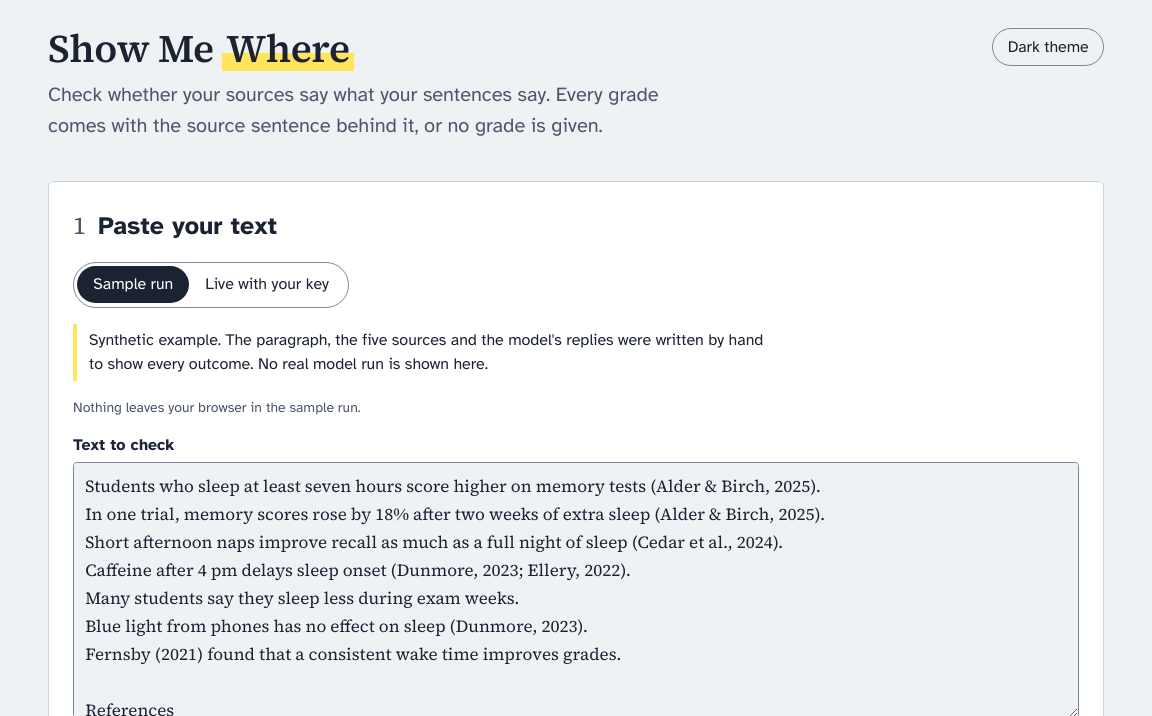
App › says when there is no reference list
The width and height of the screenshot is (1152, 716).
Click the radio button labelled "Live with your key".
click(267, 284)  # box top-left (205, 274), bottom-right (329, 294)
(page scrolled)
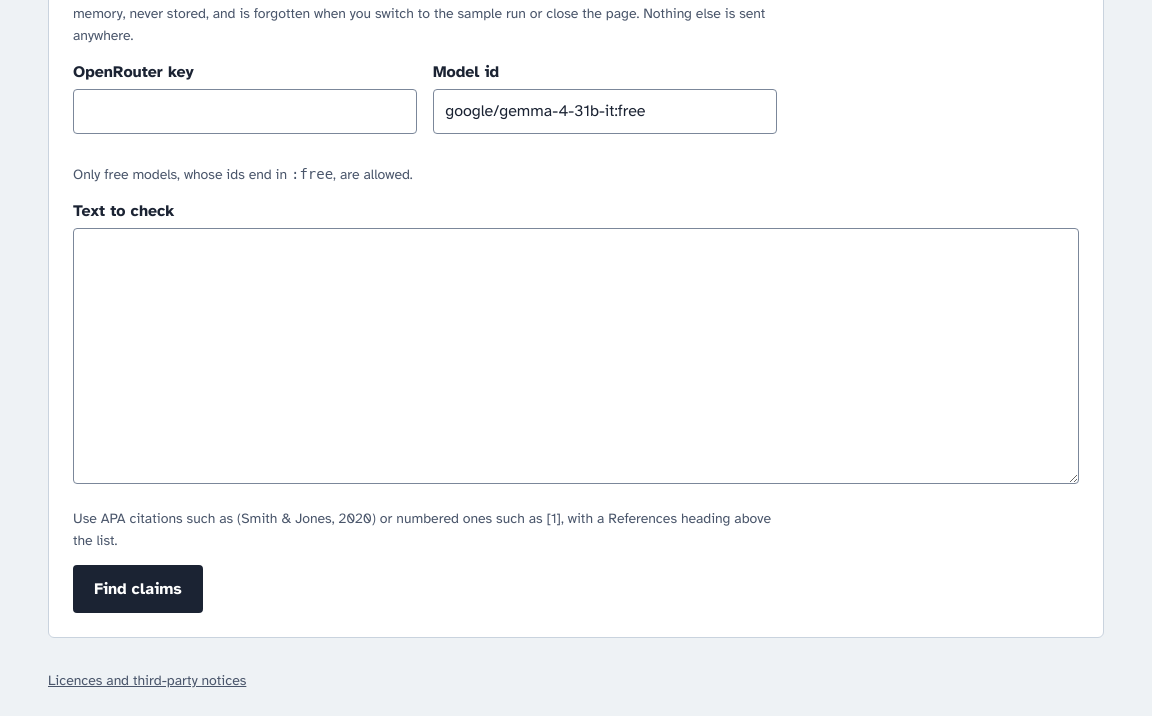
Type "Sleep matters (Smith, 2020)." into the text box labelled "Text to check".
click(576, 356); type("Sleep matters (Smith, 2020).")  # box top-left (73, 228), bottom-right (1079, 484)
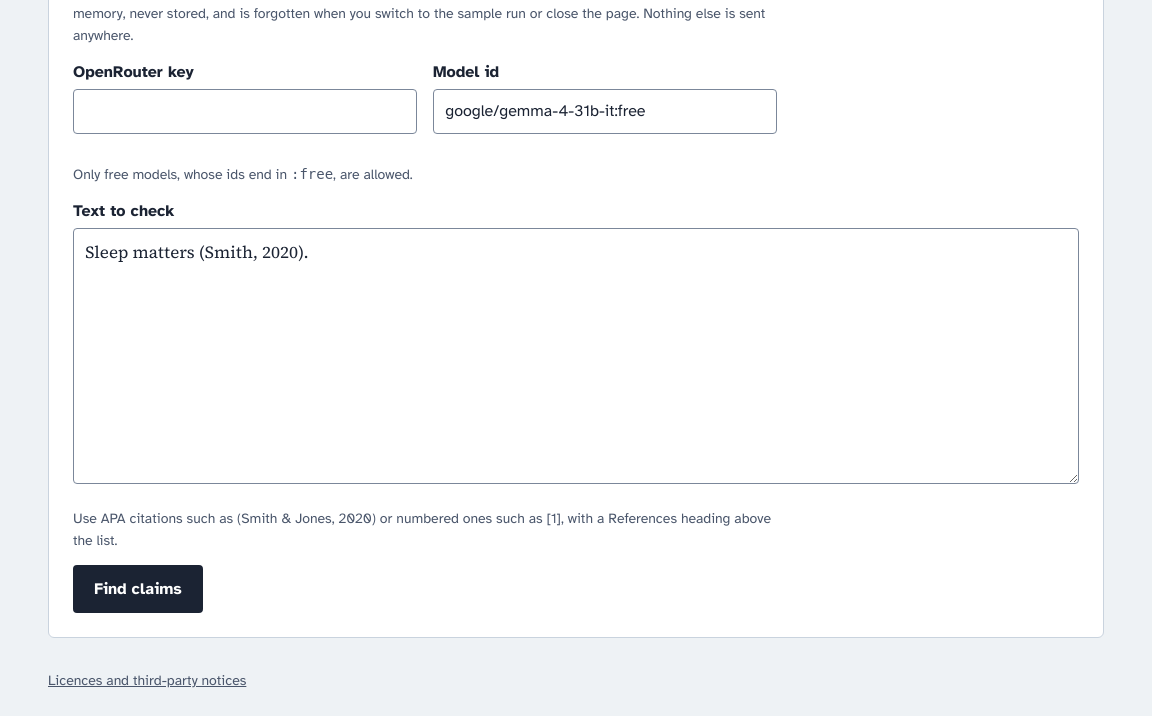
Click the button "Find claims".
click(138, 589)  # box top-left (73, 565), bottom-right (203, 613)
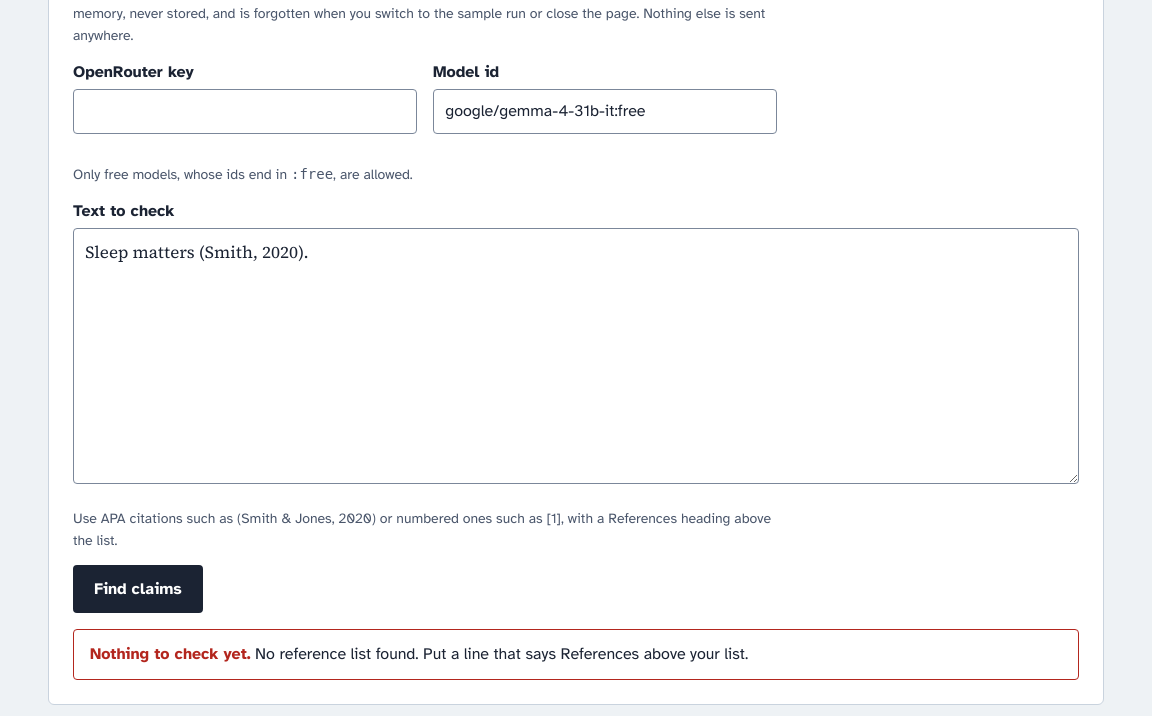
expect the message shows "No reference list found.": met, box top-left (255, 644), bottom-right (748, 664)
